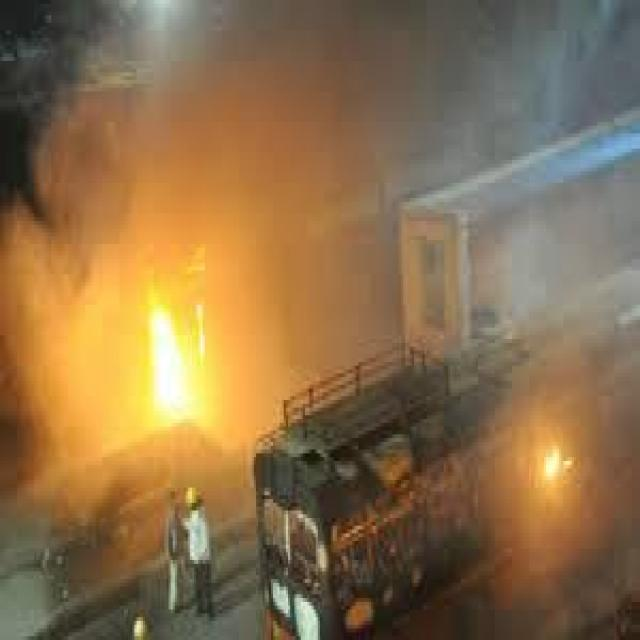fire: (121, 257, 234, 436), (510, 401, 590, 512)
smoke: (97, 8, 611, 220)
